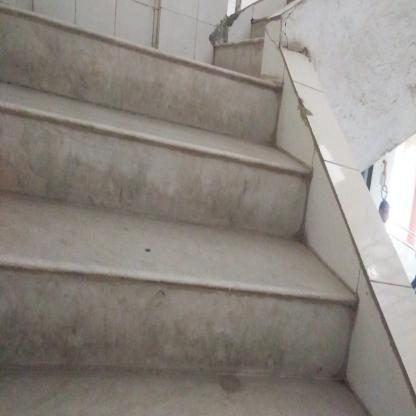stairs: (18, 63, 255, 406)
